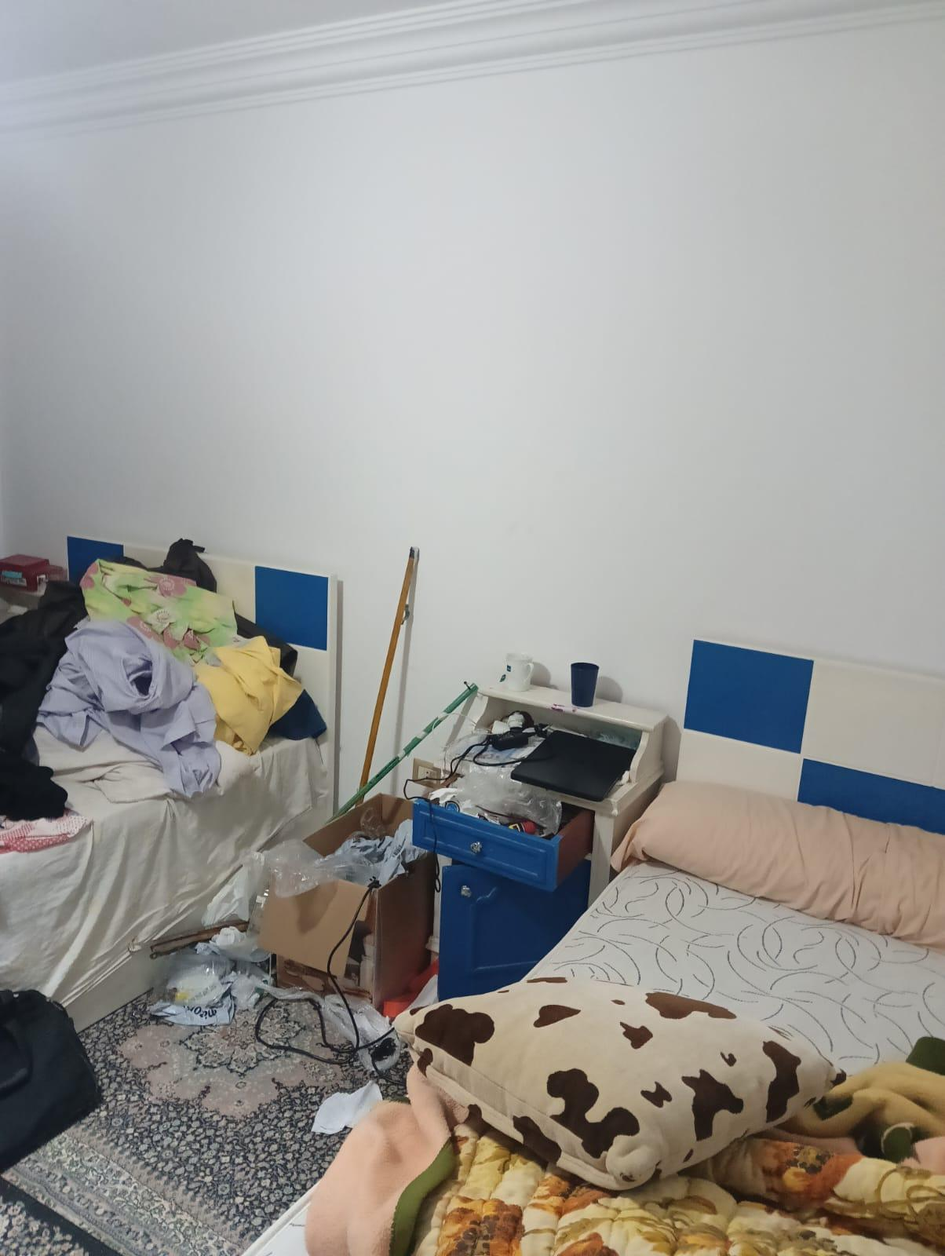cup: (501, 653, 533, 692), (571, 662, 598, 707)
